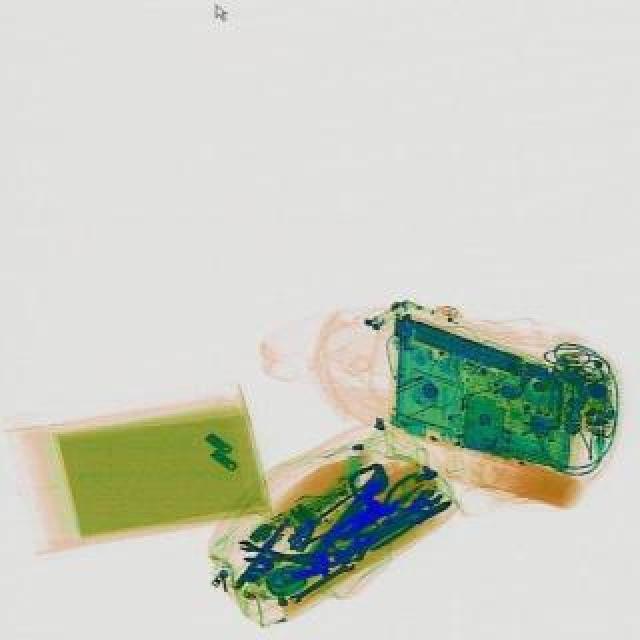scissors: (284, 556, 354, 608), (234, 538, 322, 572)
wrench: (352, 468, 436, 534)
